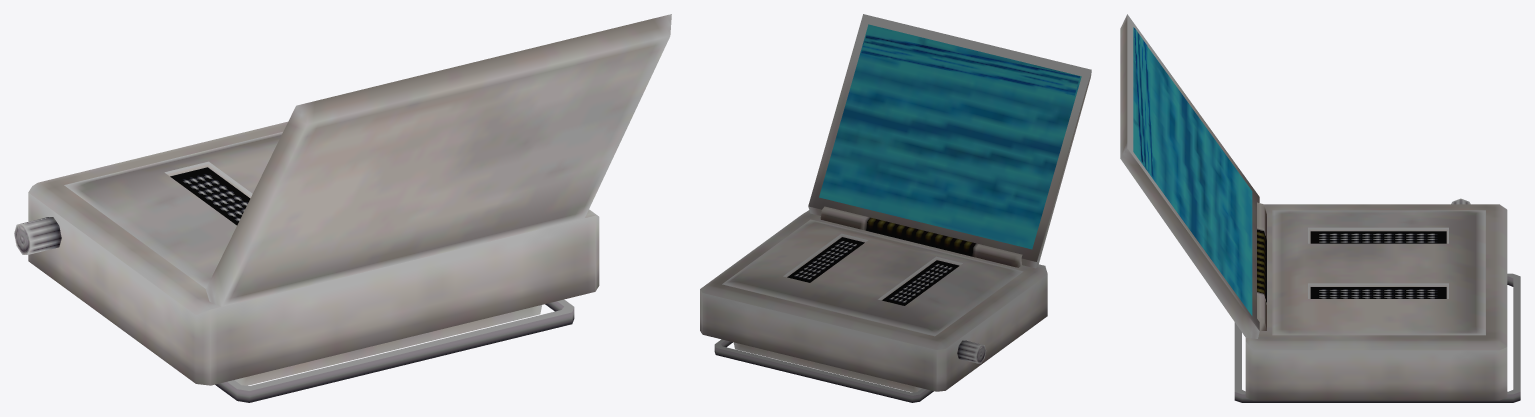
File: view.ico.obj
3 renders of one model, left to right at view 1: azimuth 30°, elevation 25°; view 2: azimuth 150°, elevation 25°; view 3: azimuth 270°, elevation 25°, orthographic. The views are drawn at different scales.
Bounding box in the file's own units: 2.28 × 1.8 × 2.47.
Materials: 1 (1 with a texture image).
